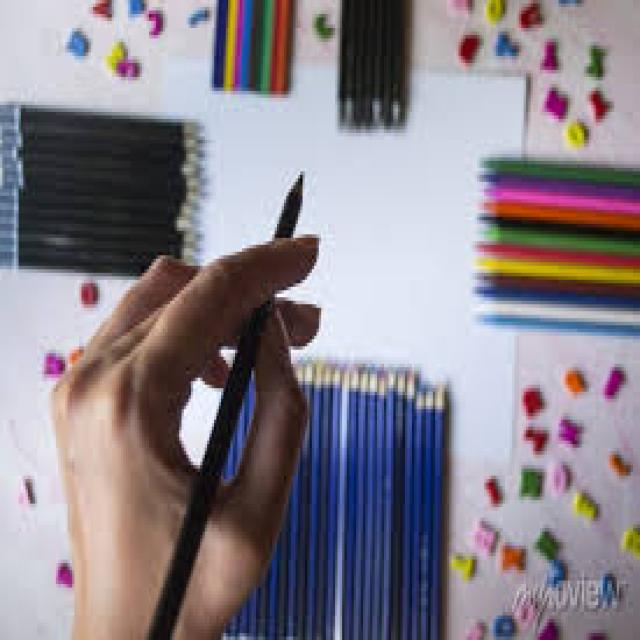pencil: (148, 300, 274, 637), (273, 164, 315, 236)
